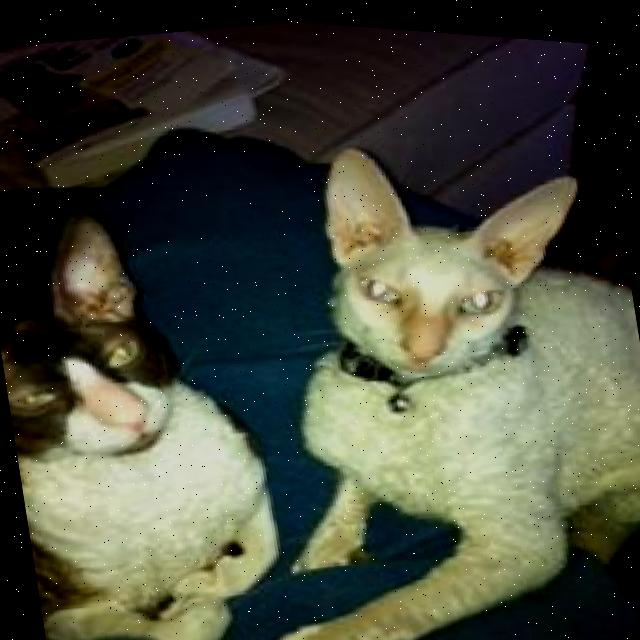Cornish Rex: (180, 84, 640, 640), (0, 172, 303, 640)
